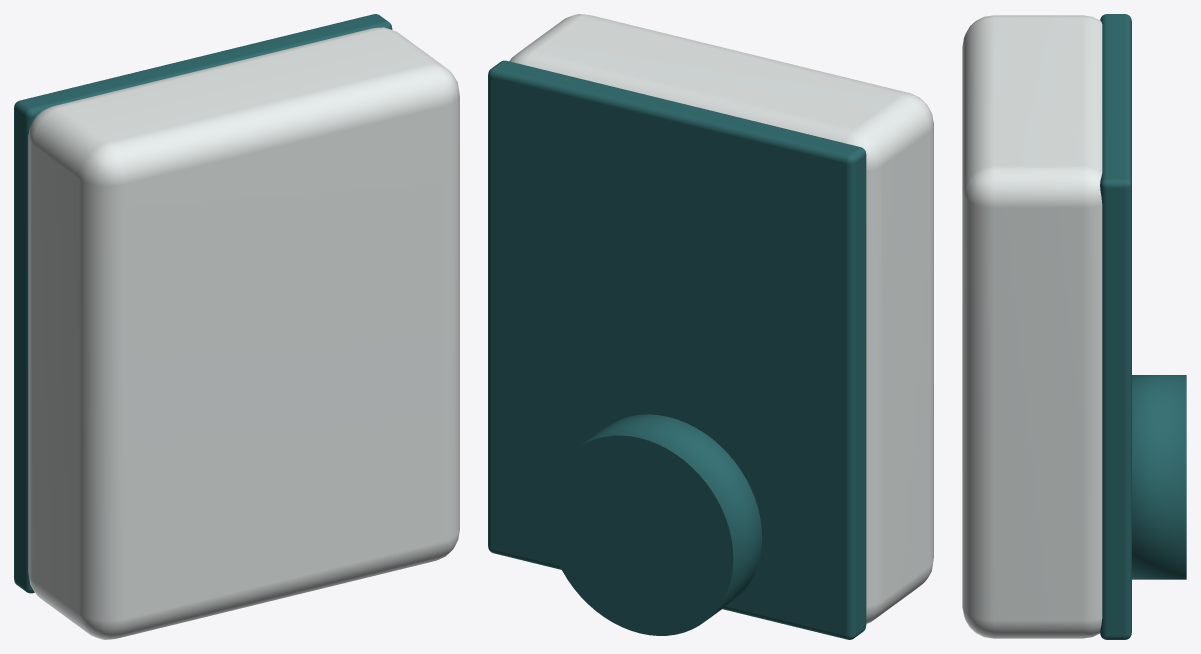
The model's file is head_carriage.glb.
3 renders of one model, left to right at view 1: azimuth 30°, elevation 25°; view 2: azimuth 150°, elevation 25°; view 3: azimuth 270°, elevation 25°, orthographic. The views are drawn at different scales.
Parts seen in each view (by area): view 1: head_bridge, head_trim; view 2: head_trim, head_bridge, motor_casing; view 3: head_bridge, head_trim, motor_casing.
Part boxes in pixels (x1,y1,x2,y2): head_bridge: [28, 27, 459, 639]; head_trim: [14, 14, 392, 593]; head_trim: [488, 60, 866, 639]; head_bridge: [509, 14, 933, 623]; motor_casing: [546, 414, 761, 635]; head_bridge: [962, 15, 1102, 638]; head_trim: [1100, 14, 1131, 639]; motor_casing: [1132, 375, 1186, 579].
Bounding box in the file's own units: 0.117 × 0.1495 × 0.0635.
